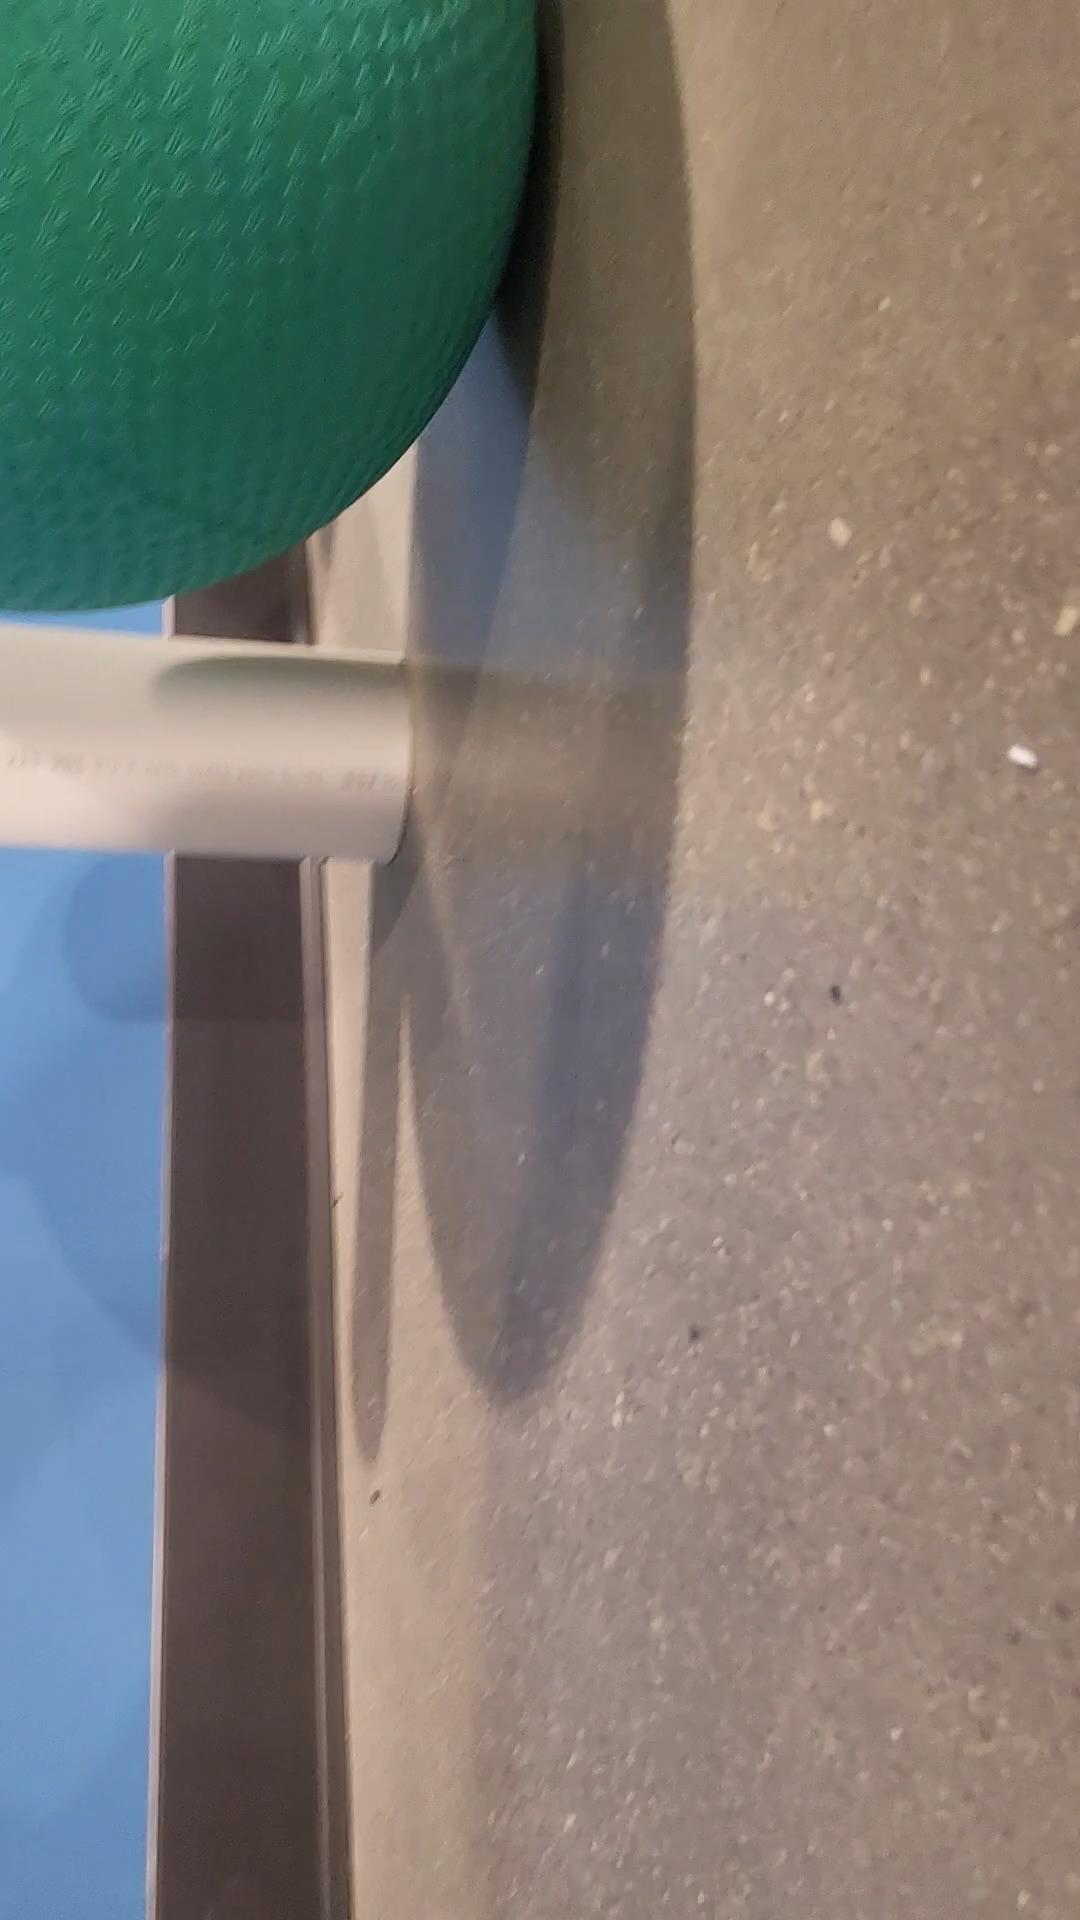algae: (0, 0, 550, 630)
coral: (0, 624, 430, 873)
